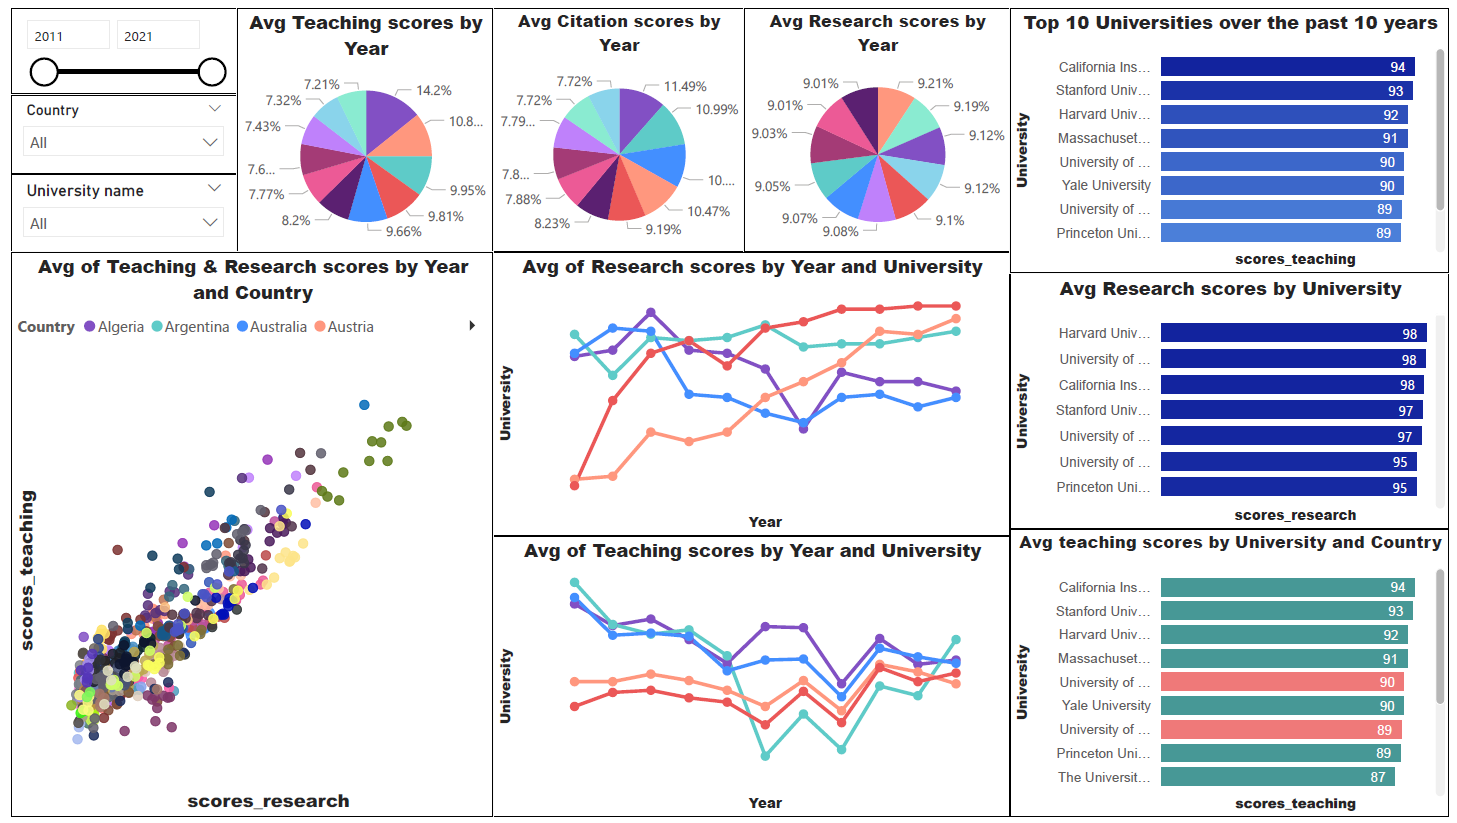

What the dashboard file says about the page in this screenshot:
{"tool":"powerbi","page":{"name":"Page 7","canvas":[1280,720],"ordinal":6},"visuals":[{"type":"slicer","fields":{"Values":["complete.Year"]},"box":[0,0,201.5,77.5],"z":0},{"type":"slicer","title":"Country","fields":{"Values":["complete.location"]},"box":[0,77.5,201.5,70.3],"z":1000},{"type":"slicer","title":"University","fields":{"Values":["complete.name"]},"box":[0,147.8,201.5,69.1],"z":2000},{"type":"barChart","title":"Avg Research scores by University","fields":{"Category":["complete.name"],"Y":["Avg(complete.scores_research)"]},"box":[889.3,236,391,227.7],"z":3000},{"type":"barChart","title":"Avg teaching scores by  University and Country","fields":{"Y":["Avg(complete.scores_teaching)"],"Category":["complete.name"],"Series":["complete.location"]},"box":[889.3,463.7,391,256.3],"z":4000},{"type":"lineChart","title":"Avg of Research scores by Year and University","fields":{"Category":["complete.Year.Variation.Date Hierarchy.Year"],"Y":["Avg(complete.scores_research)"],"Series":["complete.name"]},"box":[429.1,216.9,460.1,252.7],"z":5000},{"type":"lineChart","title":"Avg of Teaching scores by Year and University","fields":{"Category":["complete.Year.Variation.Date Hierarchy.Year"],"Series":["complete.name"],"Y":["Avg(complete.scores_teaching)"]},"box":[429.1,469.7,460.1,250.3],"z":6000},{"type":"pieChart","title":"Avg Citation scores by Year","fields":{"Y":["Avg(complete.scores_citations)"],"Category":["complete.Year"]},"box":[429.1,0,222.9,216.9],"z":7000},{"type":"pieChart","title":"Avg Research scores by Year","fields":{"Y":["Avg(complete.scores_research)"],"Category":["complete.Year"]},"box":[652,0,237.2,216.9],"z":8000},{"type":"pieChart","title":"Avg Teaching scores by Year","fields":{"Y":["Avg(complete.scores_teaching)"],"Category":["complete.Year"]},"box":[201.5,0,227.7,216.9],"z":9000},{"type":"barChart","title":"Top 10 Universities over the past 10 years","fields":{"Category":["complete.name"],"Y":["Avg(complete.scores_teaching)"]},"box":[889.3,0,391,236],"z":10000},{"type":"scatterChart","title":"Avg of Research & Teaching scores by Year and Country","fields":{"X":["Avg(complete.scores_research)"],"Y":["Avg(complete.scores_teaching)"],"Category":["complete.Year"],"Series":["complete.location"],"Play":["complete.Year"]},"box":[0,217.5,428.8,502.5],"z":11000}]}

Visuals, with their boxes in screenshot pixels (x1, y1, x2, y2), scaled from the page's 1280x720 canvas onto the 1457x823 screenshot:
slicer - complete.Year: <box>0,0,229,89</box>
"Country" slicer: <box>0,89,229,169</box>
"University" slicer: <box>0,169,229,248</box>
"Avg Research scores by University" barChart: <box>1012,270,1456,530</box>
"Avg teaching scores by  University and Country" barChart: <box>1012,530,1456,822</box>
"Avg of Research scores by Year and University" lineChart: <box>488,248,1012,537</box>
"Avg of Teaching scores by Year and University" lineChart: <box>488,537,1012,822</box>
"Avg Citation scores by Year" pieChart: <box>488,0,742,248</box>
"Avg Research scores by Year" pieChart: <box>742,0,1012,248</box>
"Avg Teaching scores by Year" pieChart: <box>229,0,489,248</box>
"Top 10 Universities over the past 10 years" barChart: <box>1012,0,1456,270</box>
"Avg of Research & Teaching scores by Year and Country" scatterChart: <box>0,249,488,822</box>
